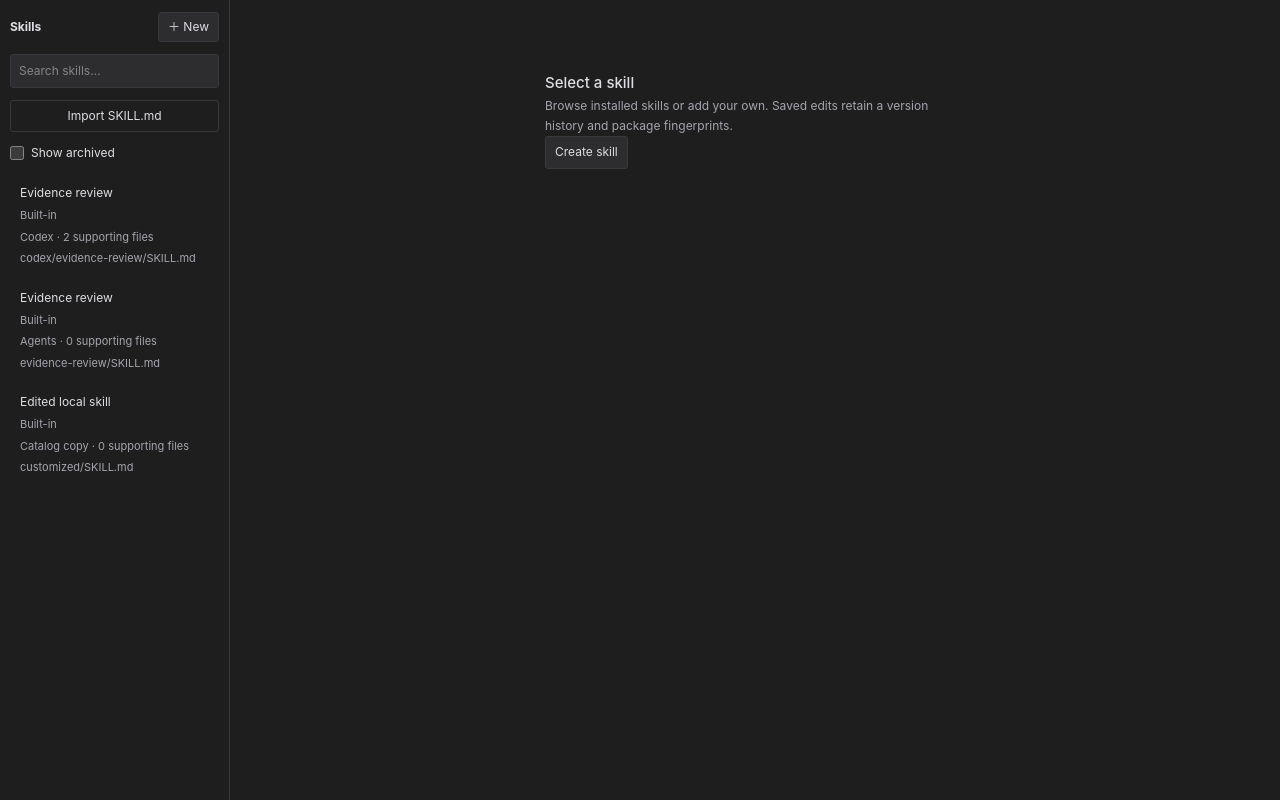
Test: does not infer verified origin from a fixed path and reports zero supporting files accurately
The image size is (1280, 800).
Click the button "Edited local skill" at (114, 434), box [10,383,219,486]
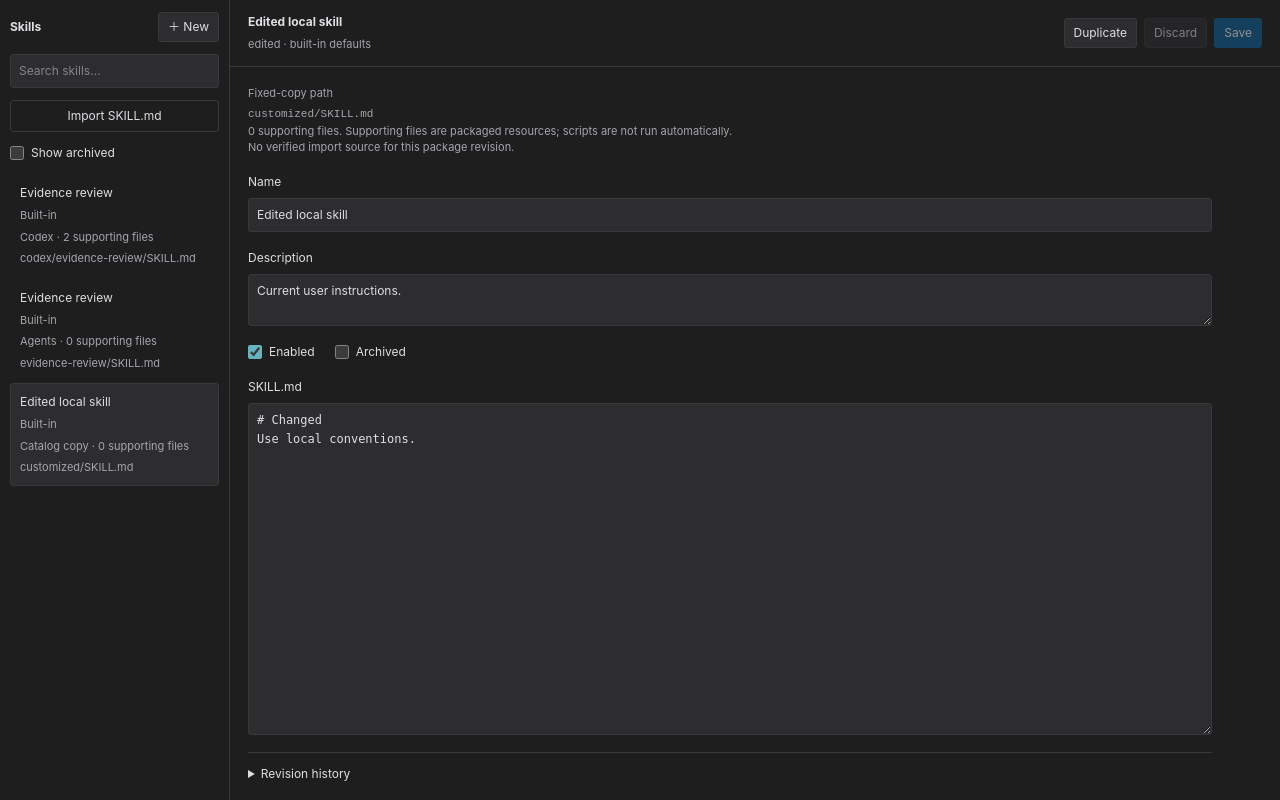
expect the text "0 supporting files" is shown: met, box [248,124,339,138]
expect the text "customized/SKILL.md" below "Fixed-copy path" is shown: met, box [248,108,373,120]
